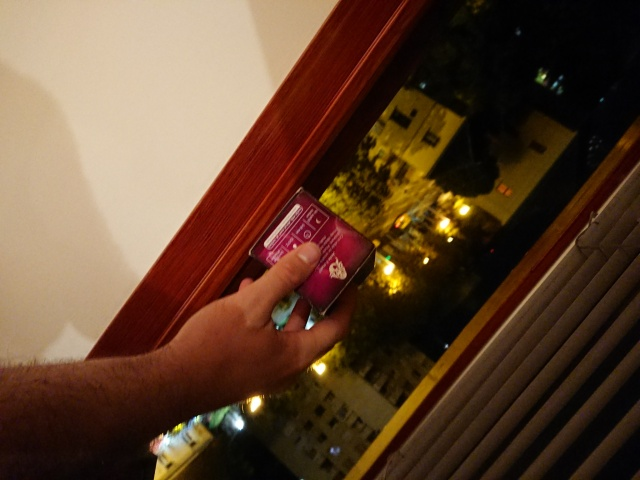Franck Black Currant Tea 60g: (245, 183, 378, 327)
